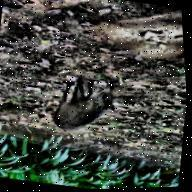boar: (47, 76, 128, 147)
